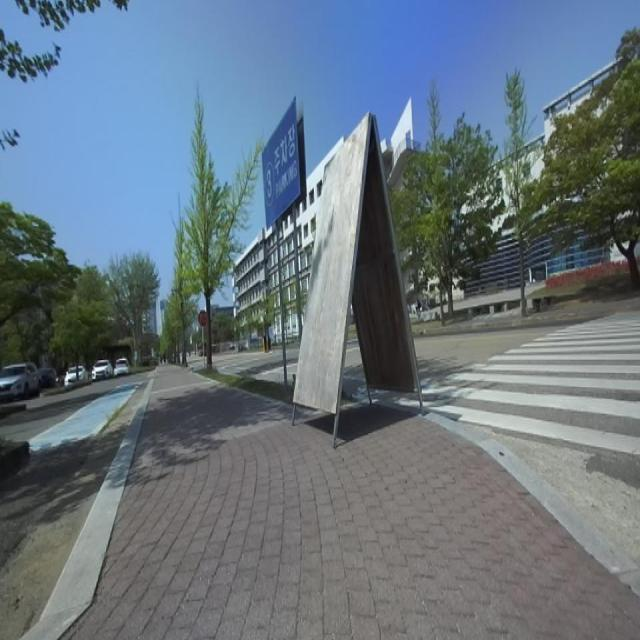sidewalk: (24, 367, 640, 639)
